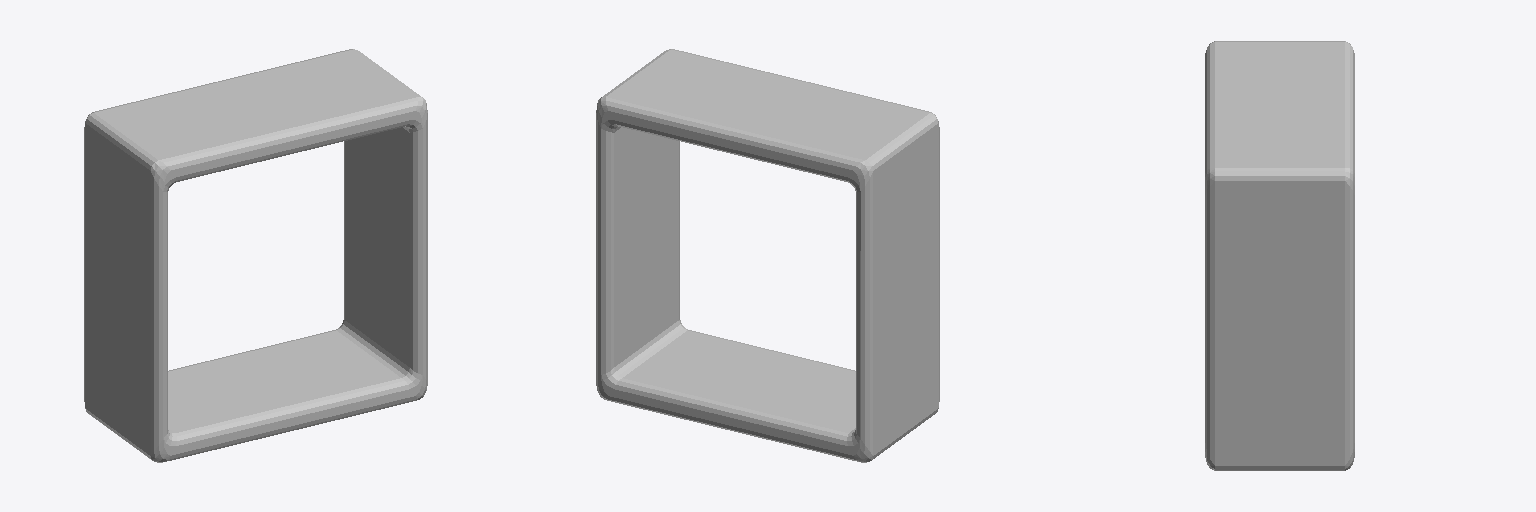
The model's file is IGNORE_Fensterrahmen.obj.
3 views of the same model, side by side, from view 1: azimuth 30°, elevation 25°; view 2: azimuth 150°, elevation 25°; view 3: azimuth 270°, elevation 25° (orthographic).
Parts seen in each view (by area): view 1: IGNORE_Fensterrahmen.003_Cube.017; view 2: IGNORE_Fensterrahmen.003_Cube.017; view 3: IGNORE_Fensterrahmen.003_Cube.017.
Boxes of the visible parts, x1,y1,x2,y2 form: IGNORE_Fensterrahmen.003_Cube.017: [84, 49, 427, 462]; IGNORE_Fensterrahmen.003_Cube.017: [596, 49, 939, 462]; IGNORE_Fensterrahmen.003_Cube.017: [1205, 41, 1354, 470].
Bounding box in the file's own units: 0.9624 × 1.01 × 0.45.